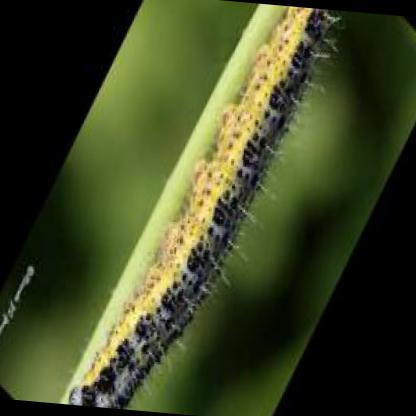pieris: (70, 9, 334, 406)
